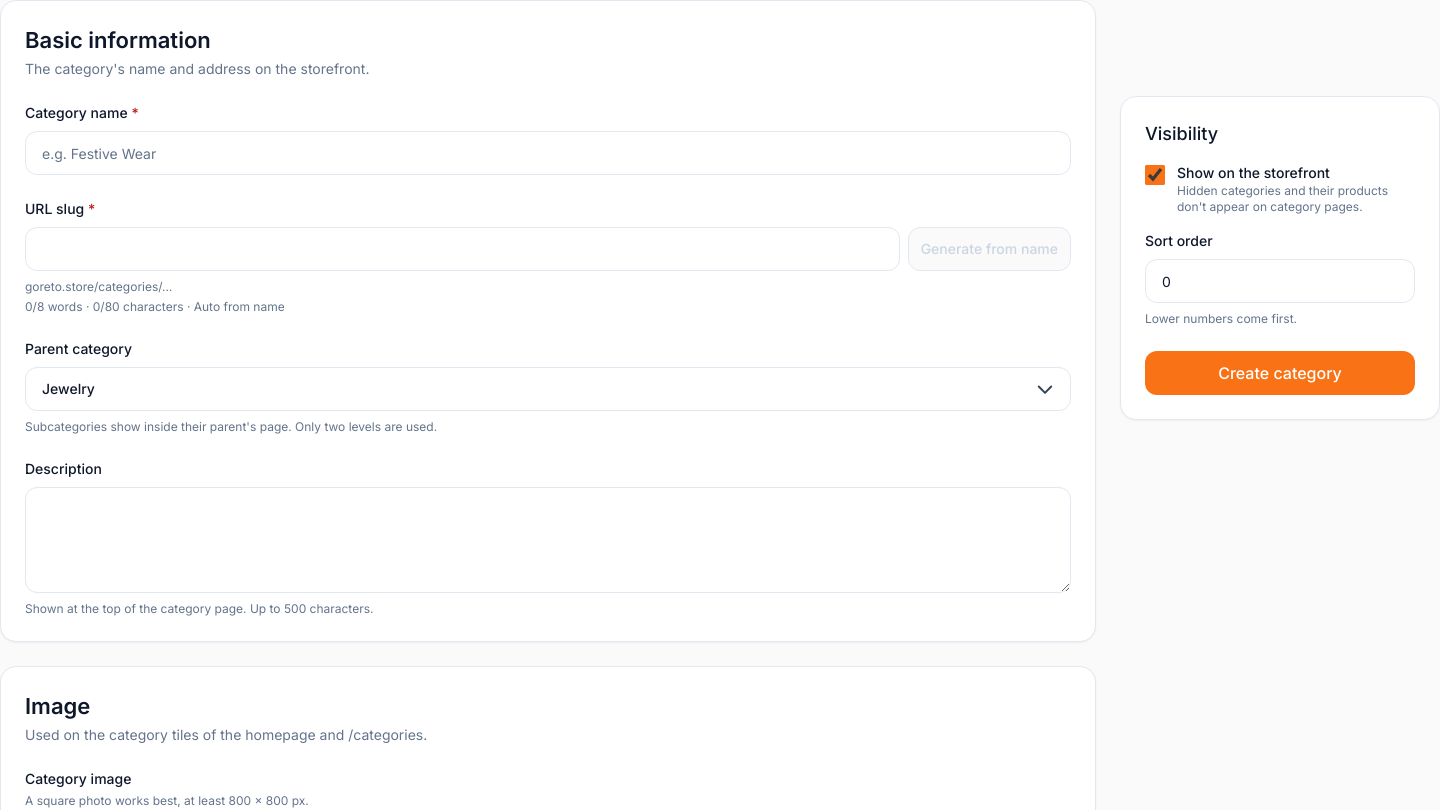
Test: CategoryForm › submits the fields as FormData and shows server field errors inline
Type "Earrings" into the field labelled "Category name *". click: (548, 153)
box: x1=25 y1=131 x2=1071 y2=175
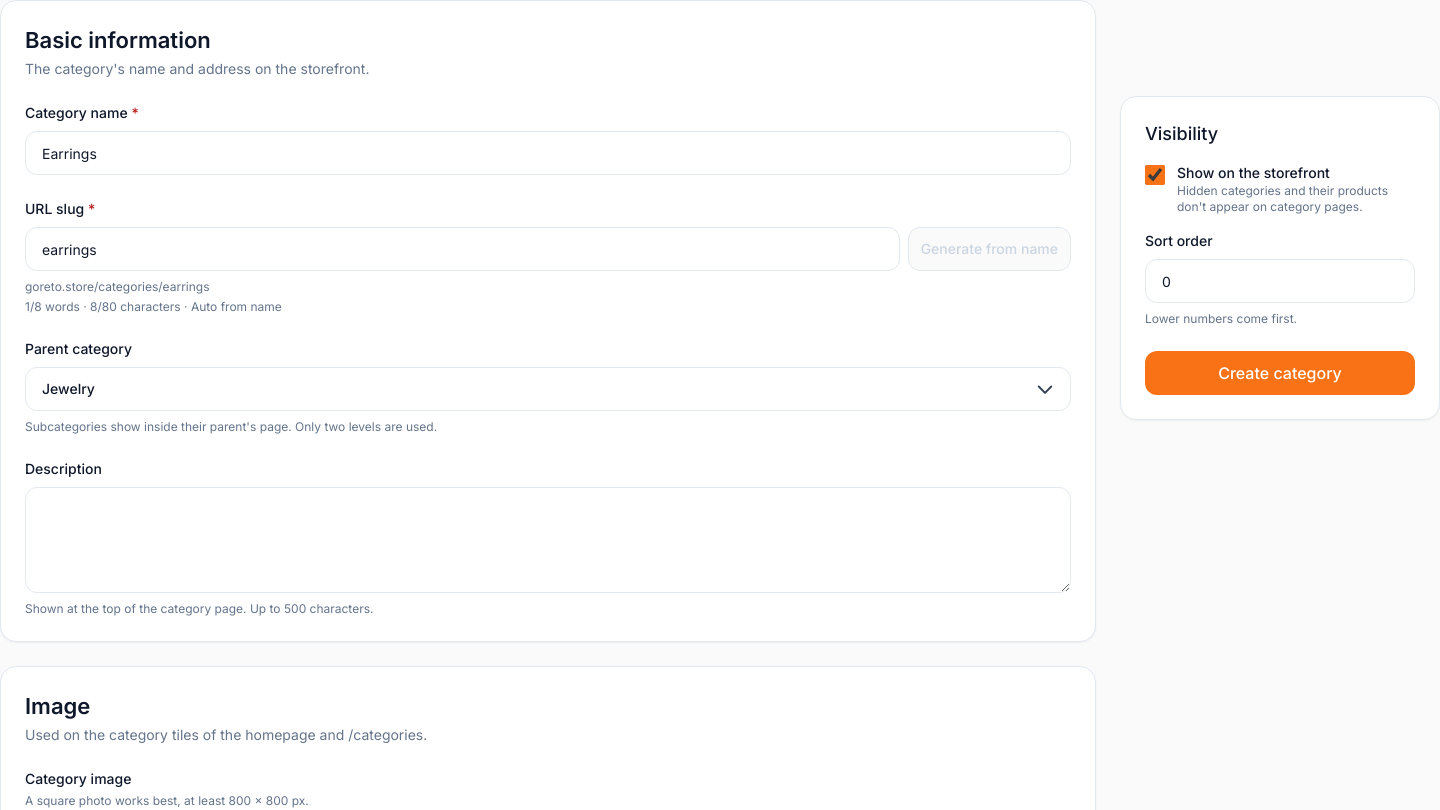
Click the button "Create category". click: (1280, 373)
box: x1=1145 y1=351 x2=1415 y2=395
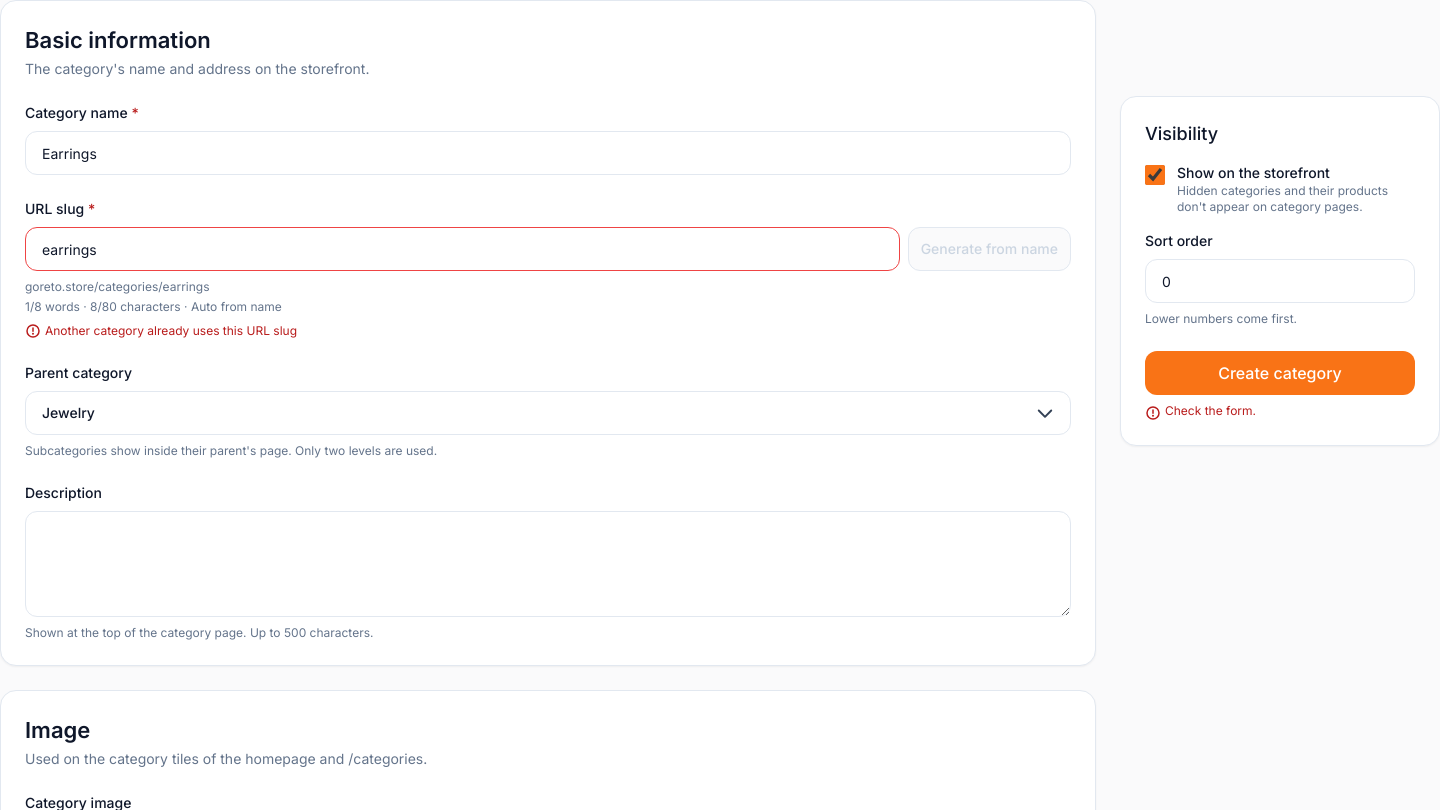
Now the text "Another category already uses this URL slug" is shown, box x1=25 y1=323 x2=297 y2=339
